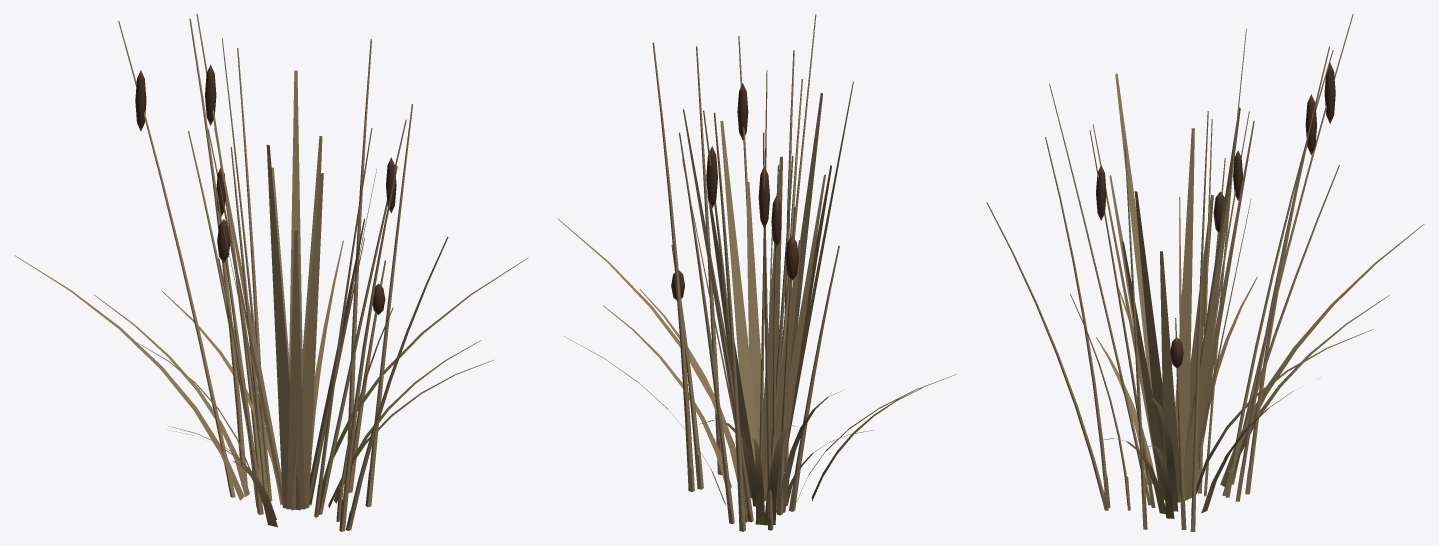
The model's file is reed_clump_0.glb.
The picture shows the model from 3 angles, left to right: view 1: azimuth 30°, elevation 25°; view 2: azimuth 150°, elevation 25°; view 3: azimuth 270°, elevation 25°; orthographic projection. The views are drawn at different scales.
Parts seen in each view (by area): view 1: ReedClump_Far, ReedClump_Stalks_2, ReedClump_Stalks_0, ReedClump_Stalks_1, ReedClump_Blades_0, ReedClump_Blades_1, ReedClump_Blades_2, ReedClump_StubbleStalks, ReedClump_Heads_2, ReedClump_Heads_0, ReedClump_Heads_1; view 2: ReedClump_Far, ReedClump_Stalks_1, ReedClump_Stalks_0, ReedClump_Stalks_2, ReedClump_Blades_0, ReedClump_Blades_1, ReedClump_StubbleStalks, ReedClump_Blades_2, ReedClump_Heads_2, ReedClump_Heads_1, ReedClump_Heads_0; view 3: ReedClump_Far, ReedClump_Stalks_2, ReedClump_Stalks_0, ReedClump_Stalks_1, ReedClump_Blades_0, ReedClump_Blades_1, ReedClump_StubbleStalks, ReedClump_Blades_2, ReedClump_Heads_2, ReedClump_Heads_0, ReedClump_Heads_1.
Boxes of the visible parts, x1,y1,x2,y2 form: ReedClump_Far: [214, 70, 376, 510]; ReedClump_Stalks_2: [118, 21, 406, 523]; ReedClump_Stalks_0: [188, 14, 448, 526]; ReedClump_Stalks_1: [207, 48, 412, 500]; ReedClump_Blades_0: [93, 257, 528, 519]; ReedClump_Blades_1: [136, 240, 493, 508]; ReedClump_Blades_2: [14, 255, 277, 527]; ReedClump_StubbleStalks: [226, 459, 374, 531]; ReedClump_Heads_2: [135, 70, 396, 213]; ReedClump_Heads_0: [205, 64, 385, 314]; ReedClump_Heads_1: [216, 167, 230, 262]; ReedClump_Far: [682, 81, 853, 501]; ReedClump_Stalks_1: [679, 46, 839, 508]; ReedClump_Stalks_0: [671, 70, 802, 523]; ReedClump_Stalks_2: [652, 14, 816, 518]; ReedClump_Blades_0: [557, 218, 956, 524]; ReedClump_Blades_1: [564, 289, 843, 512]; ReedClump_StubbleStalks: [687, 437, 796, 531]; ReedClump_Blades_2: [764, 388, 922, 525]; ReedClump_Heads_2: [737, 83, 769, 228]; ReedClump_Heads_1: [771, 196, 798, 280]; ReedClump_Heads_0: [671, 146, 717, 300]; ReedClump_Far: [1093, 73, 1254, 502]; ReedClump_Stalks_2: [1045, 14, 1353, 516]; ReedClump_Stalks_0: [986, 28, 1339, 500]; ReedClump_Stalks_1: [1124, 101, 1316, 496]; ReedClump_Blades_0: [1118, 288, 1389, 511]; ReedClump_Blades_1: [1099, 277, 1320, 518]; ReedClump_StubbleStalks: [1101, 458, 1252, 531]; ReedClump_Blades_2: [1096, 224, 1424, 486]; ReedClump_Heads_2: [1096, 62, 1335, 220]; ReedClump_Heads_0: [1170, 94, 1316, 368]; ReedClump_Heads_1: [1213, 150, 1242, 232].
Size of the model in its own units: 1.64 by 1.9 by 1.66.
